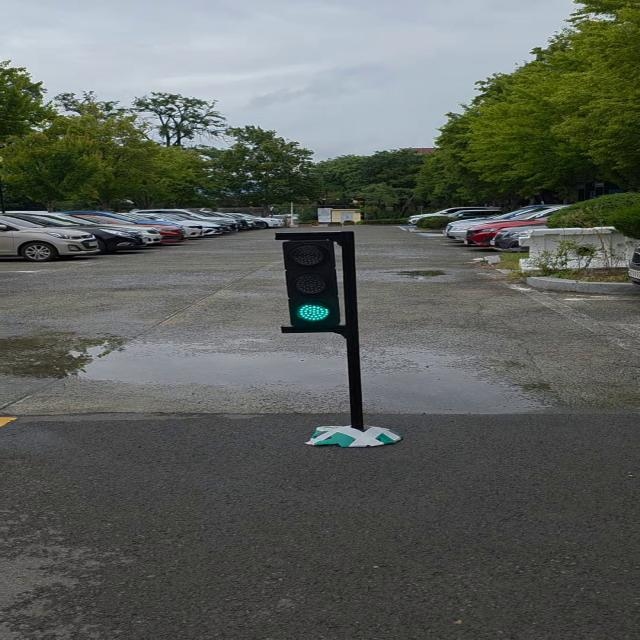green: (283, 235, 356, 332)
